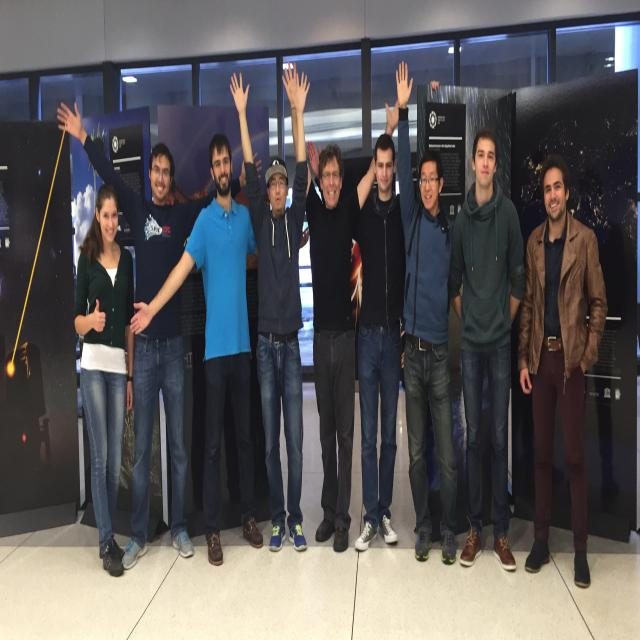body: (56, 100, 263, 571), (127, 131, 313, 567), (281, 59, 400, 554), (306, 133, 422, 552), (515, 153, 610, 590), (228, 69, 312, 552), (446, 125, 528, 571), (395, 58, 458, 566), (72, 176, 136, 580)
